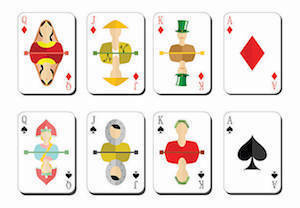AceOfDiamonds: (220, 10, 285, 100)
AceOfSpades: (220, 109, 288, 201)
JackOfDiamonds: (84, 8, 148, 99)
JackOfSpades: (83, 109, 148, 196)
KingOfDiamonds: (150, 9, 215, 96)
KingOfSpades: (150, 109, 214, 198)
QueenOfHearts: (14, 10, 81, 94)
QueenOfSpades: (13, 108, 79, 196)
